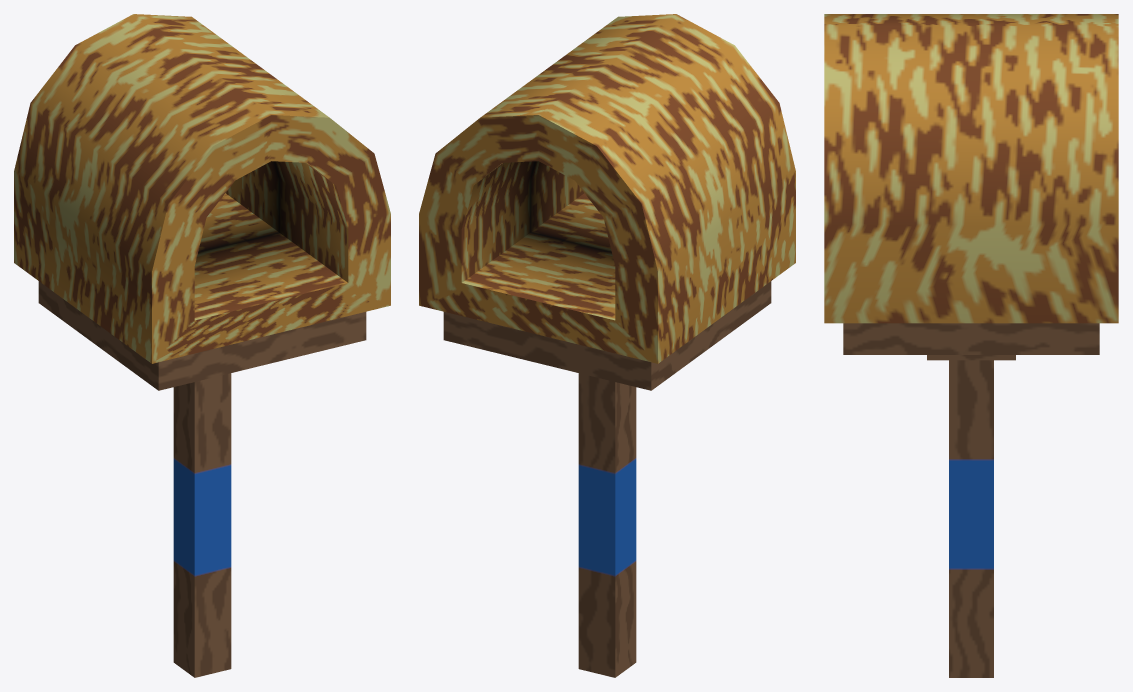
Rendered from birdnest02.fbx.
3 views of the same model, side by side, from view 1: azimuth 30°, elevation 25°; view 2: azimuth 150°, elevation 25°; view 3: azimuth 270°, elevation 25° (orthographic). The views are drawn at different scales.
Parts seen in each view (by area): view 1: birdnest002; view 2: birdnest002; view 3: birdnest002.
Boxes of the visible parts, x1,y1,x2,y2 form: birdnest002: (14,14,390,677); birdnest002: (419,14,795,677); birdnest002: (824,14,1118,677).
Bounding box in the file's own units: 66.19 × 159 × 66.19.
